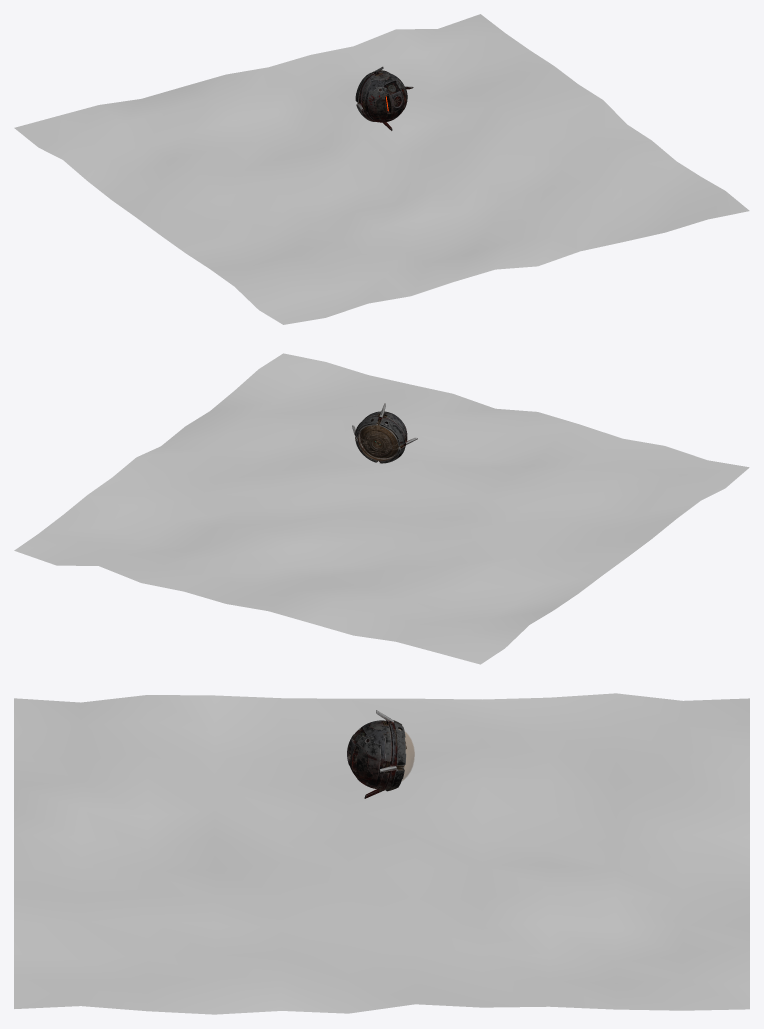
3 renders of one model, top to bottom at view 1: azimuth 30°, elevation 25°; view 2: azimuth 150°, elevation 25°; view 3: azimuth 270°, elevation 25°, orthographic. The views are drawn at different scales.
Parts seen in each view (by area): view 1: Floor_low, Bot.007_low; view 2: Floor_low, Bot.020_low, Bot.003_low; view 3: Floor_low, Bot.007_low, Bot.016_low, Bot.003_low, Bot.010_low, Bot.018_low.
Part boxes in pixels (x1,y1,x2,y2): Floor_low: (14, 14, 749, 324); Bot.007_low: (365, 73, 402, 122); Floor_low: (14, 353, 749, 664); Bot.020_low: (358, 425, 398, 460); Bot.003_low: (355, 417, 405, 463); Floor_low: (14, 693, 749, 1014); Bot.007_low: (347, 721, 388, 789); Bot.016_low: (353, 728, 380, 783); Bot.003_low: (385, 720, 406, 791); Bot.010_low: (368, 720, 392, 789); Bot.018_low: (347, 734, 372, 780).
Bounding box in the file's own units: 1820 × 423 × 1820.
